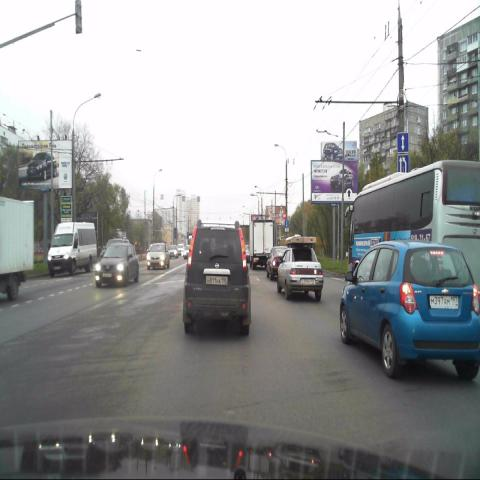5_15_5: (398, 155, 408, 176)
5_8: (396, 132, 408, 153)
